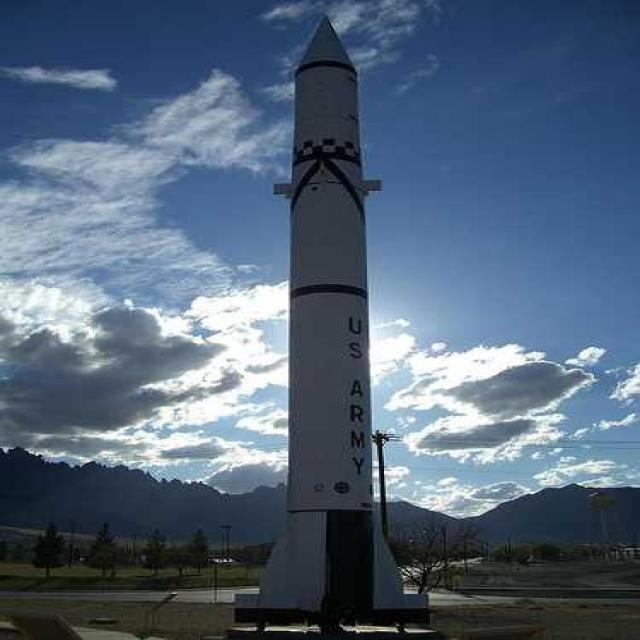missile: (225, 4, 439, 640)
